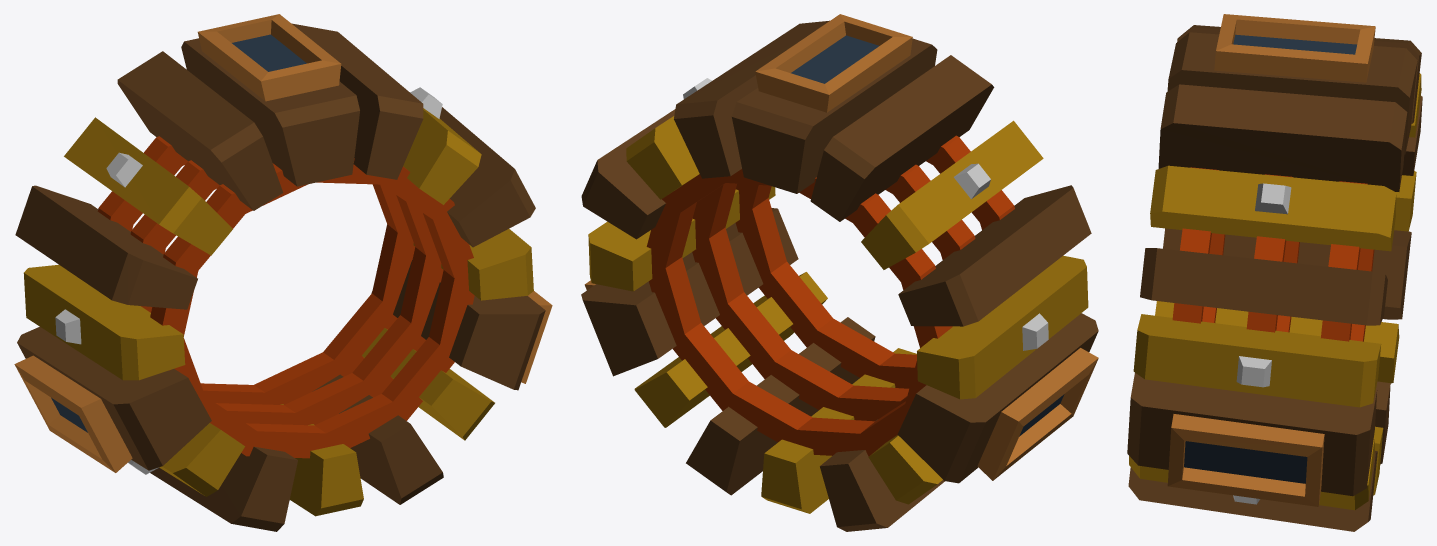
File: decorative-wire-coil-50561a.glb
The picture shows the model from 3 angles, left to right: view 1: azimuth 30°, elevation 25°; view 2: azimuth 150°, elevation 25°; view 3: azimuth 270°, elevation 25°; orthographic projection. The views are drawn at different scales.
Parts seen in each view (by area): view 1: index-intermediate; view 2: index-intermediate; view 3: index-intermediate.
Part boxes in pixels (x1=…): index-intermediate: x1=14, y1=14, x2=552, y2=531; index-intermediate: x1=581, y1=14, x2=1098, y2=531; index-intermediate: x1=1127, y1=14, x2=1422, y2=531.
Size of the model in its own units: 0.0311 by 0.0285 by 0.0166.
